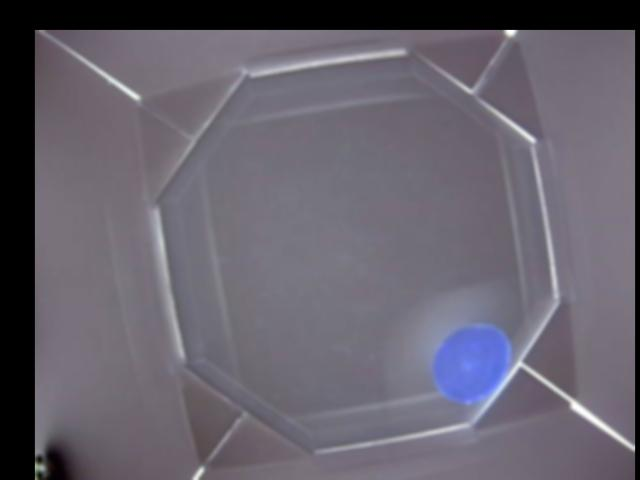Potato: (434, 323, 510, 398)
